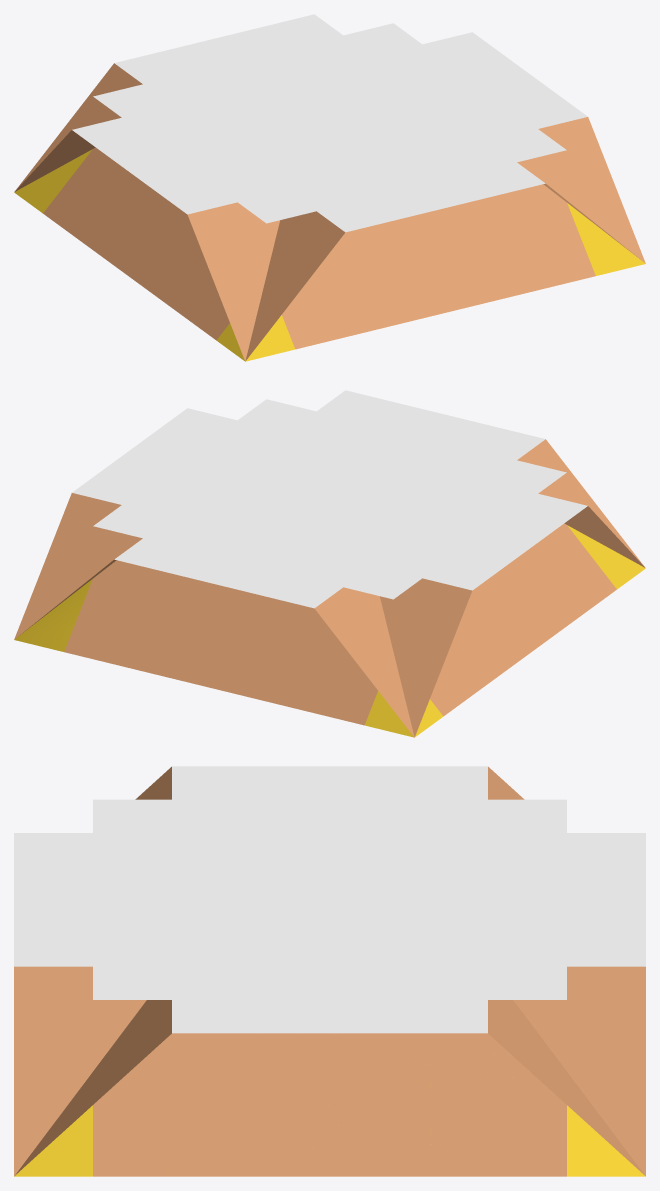
File: Tileset.fbx
3 renders of one model, top to bottom at view 1: azimuth 30°, elevation 25°; view 2: azimuth 150°, elevation 25°; view 3: azimuth 270°, elevation 25°, orthographic. The views are drawn at different scales.
Visible parts, largest first — view 1: TileCentro, pPlane67, pPlane66, pPlane76, pPlane80, pPlane78, pPlane79, pPlane73, TileDerecha, TileEsquinaSuperiorIzq, TileArriba, TileESquinaInferiorIzq; view 2: TileCentro, pPlane75, pPlane78, pPlane76, pPlane79, pPlane66, pPlane80, pPlane73, pPlane74, TileESquinaInferiorIzq, TileEsquinaSuperiorIzq, TileAbajo (+2 smaller); view 3: TileCentro, pPlane77, pPlane80, pPlane79, pPlane66, pPlane73, pPlane78, TileESquinaInferiorIzq, pPlane74, pPlane67, pPlane75, TileDerecha.
Part boxes in pixels (x1,y1,x2,y2): TileCentro: [93, 23, 566, 223]; pPlane67: [243, 155, 595, 349]; pPlane66: [72, 61, 515, 361]; pPlane76: [43, 116, 316, 340]; pPlane80: [172, 88, 645, 263]; pPlane78: [14, 14, 376, 191]; pPlane79: [423, 32, 587, 128]; pPlane73: [187, 95, 645, 275]; TileDerecha: [143, 78, 560, 210]; TileEsquinaSuperiorIzq: [14, 60, 389, 213]; TileArriba: [93, 147, 385, 201]; TileESquinaInferiorIzq: [216, 82, 295, 361]; TileCentro: [93, 399, 566, 599]; pPlane75: [64, 492, 536, 725]; pPlane78: [114, 452, 482, 737]; pPlane76: [292, 431, 616, 716]; pPlane79: [14, 408, 236, 639]; pPlane66: [318, 396, 645, 590]; pPlane80: [317, 390, 545, 553]; pPlane73: [367, 464, 487, 561]; pPlane74: [14, 445, 409, 685]; TileESquinaInferiorIzq: [254, 525, 645, 589]; TileEsquinaSuperiorIzq: [274, 443, 443, 737]; TileAbajo: [302, 523, 566, 577]; TileCentro: [93, 799, 566, 999]; pPlane77: [93, 1000, 566, 1176]; pPlane80: [14, 833, 487, 1176]; pPlane79: [172, 833, 645, 1176]; pPlane66: [54, 766, 487, 966]; pPlane73: [14, 833, 487, 1176]; pPlane78: [172, 766, 645, 966]; TileESquinaInferiorIzq: [324, 833, 487, 965]; pPlane74: [172, 833, 645, 1176]; pPlane67: [93, 1000, 171, 1071]; pPlane75: [173, 804, 566, 1071]; TileDerecha: [93, 833, 566, 863].
Bounding box in the file's own units: 600 × 150 × 600.
Materials: 1 (1 with a texture image).
